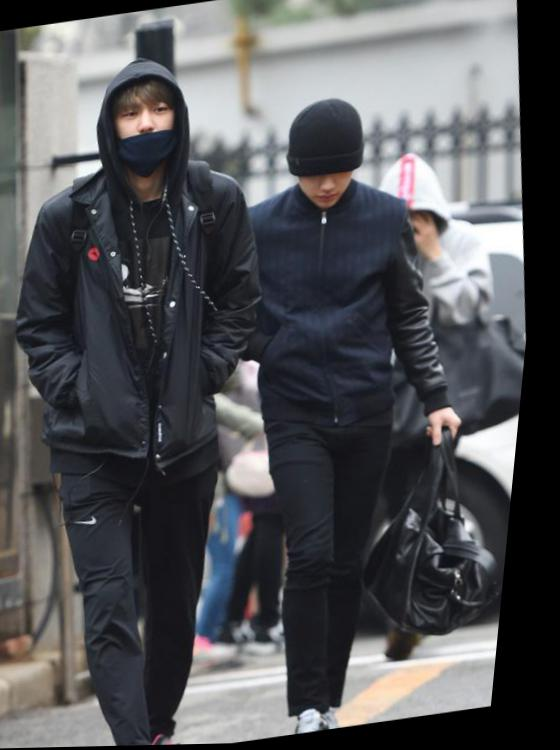NONE: (293, 152, 364, 217)
WRONG: (106, 90, 192, 173)
